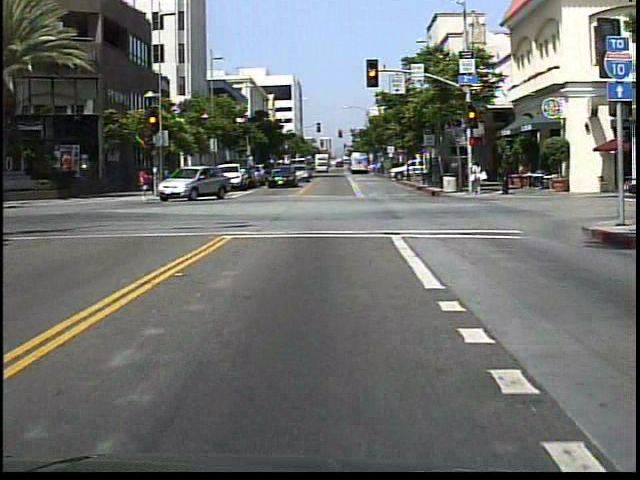person: (467, 158, 488, 198), (497, 157, 513, 198), (138, 166, 154, 196)
